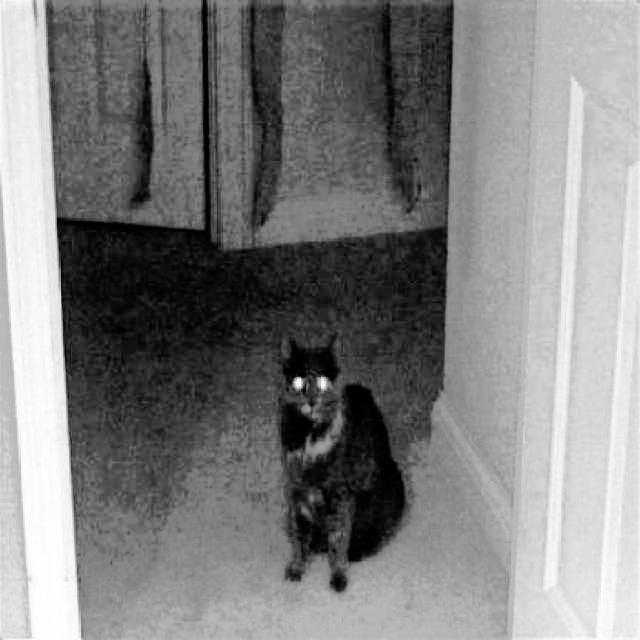Cat: (270, 318, 412, 600)
